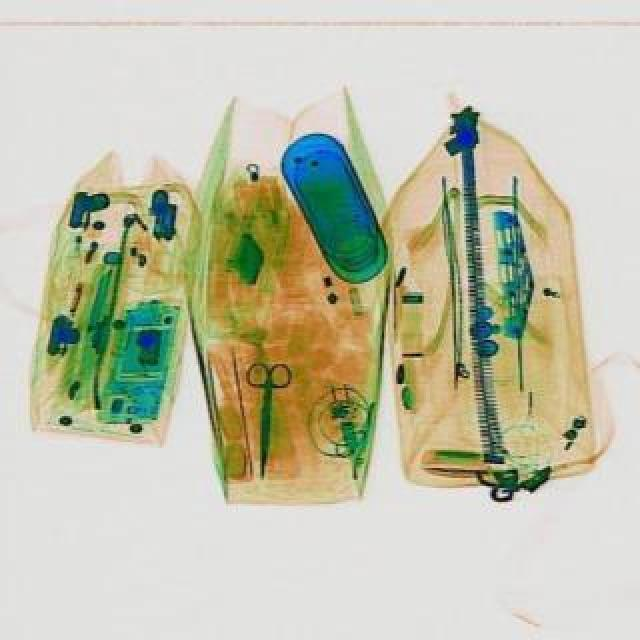pliers: (238, 360, 290, 484)
